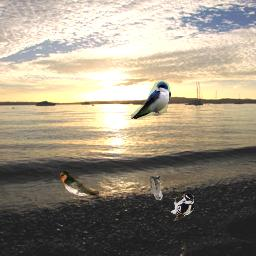Cuckoo: (150, 176, 163, 200)
Swallow: (131, 81, 171, 119), (59, 171, 99, 197)
Woodpecker: (167, 192, 194, 221)
